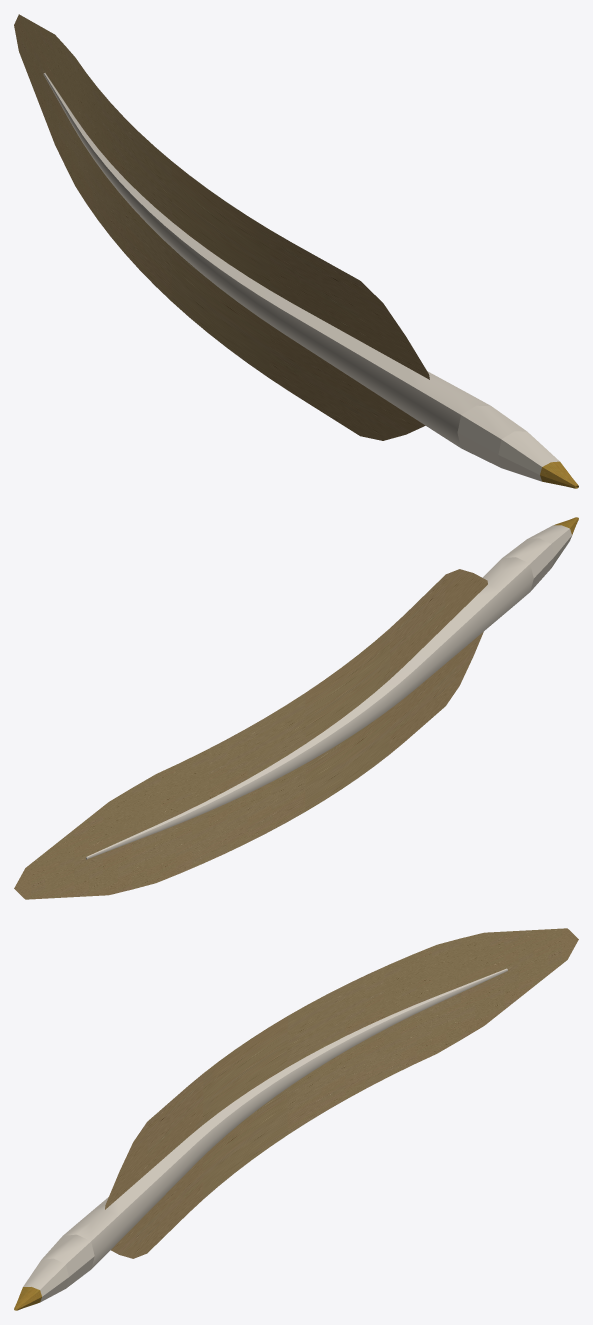
Rendered from Quill.fbx.
3 views of the same model, one above another, from view 1: azimuth 30°, elevation 25°; view 2: azimuth 150°, elevation 25°; view 3: azimuth 330°, elevation 25° (orthographic). The views are drawn at different scales.
Parts seen in each view (by area): view 1: pCube3, pCube1; view 2: pCube3, pCube1; view 3: pCube1.
Part boxes in pixels (box(x1,y1,x2,y2)): pCube3: box(14, 14, 429, 440); pCube1: box(21, 15, 578, 488); pCube3: box(14, 569, 487, 899); pCube1: box(14, 517, 578, 897); pCube1: box(14, 928, 578, 1310).
Size of the model in its own units: 3.37 by 4.63 by 33.15.
